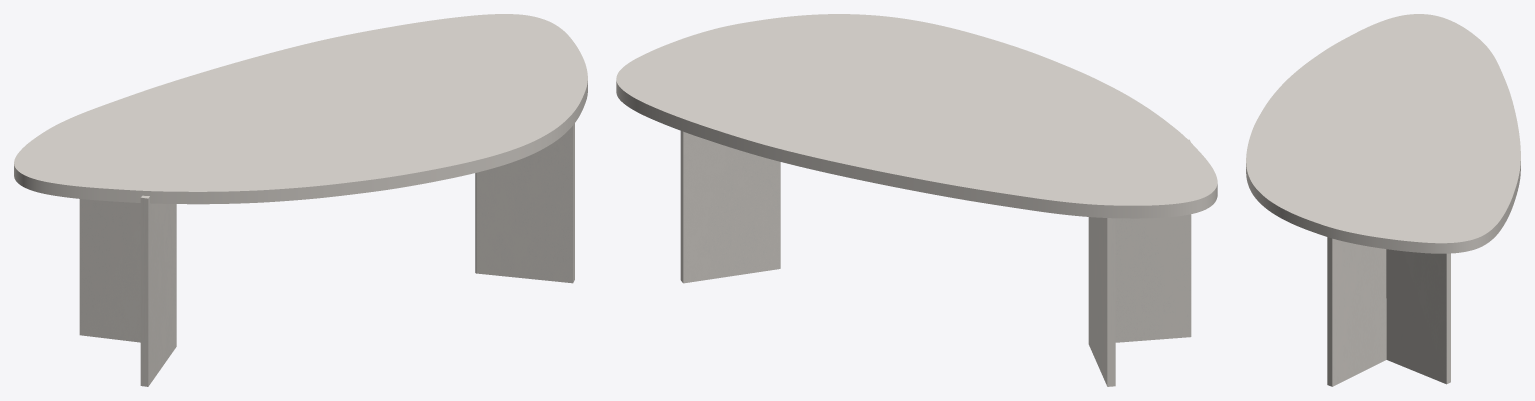
The model's file is pearlwhite_pebbletop_standard_valleyv.glb.
3 views of the same model, side by side, from view 1: azimuth 30°, elevation 25°; view 2: azimuth 150°, elevation 25°; view 3: azimuth 270°, elevation 25° (orthographic). The views are drawn at different scales.
Visible parts, largest first — view 1: standard_pebbletop, valleyv; view 2: standard_pebbletop, valleyv; view 3: standard_pebbletop, valleyv.
Boxes of the visible parts, bbox=[...] form: standard_pebbletop: bbox=[14, 14, 587, 204]; valleyv: bbox=[79, 123, 574, 386]; standard_pebbletop: bbox=[616, 14, 1217, 218]; valleyv: bbox=[680, 131, 1191, 386]; standard_pebbletop: bbox=[1246, 14, 1520, 253]; valleyv: bbox=[1327, 237, 1450, 386].
Size of the model in its own units: 7.5 by 2.5 by 3.8.
Materials: 1 (1 with a texture image).
